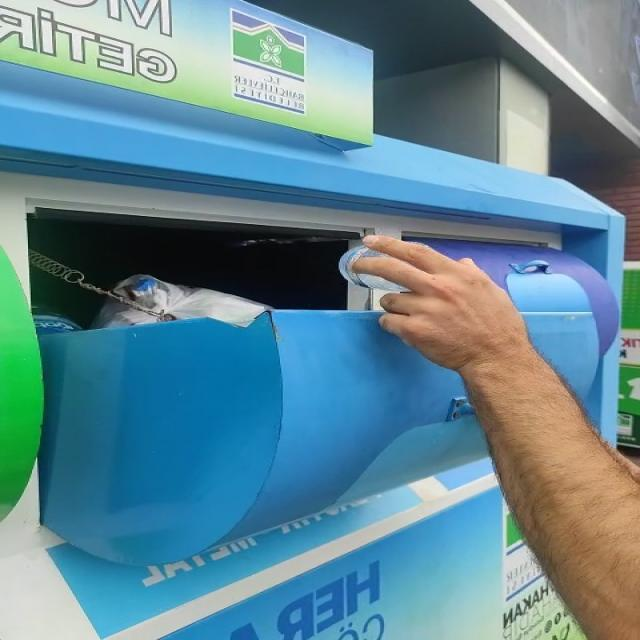Plastic: (339, 245, 409, 292)
